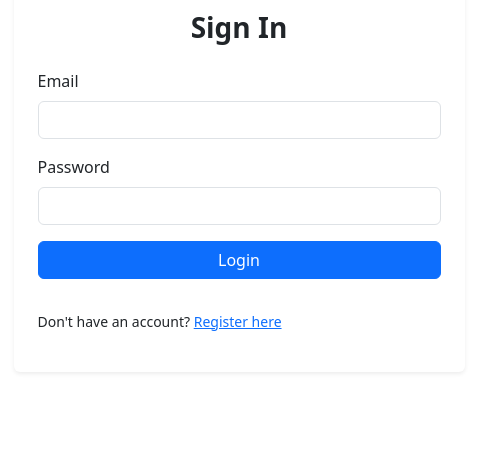
Scenario: LoginPage › handles login error (Invalid Credentials)
Step 1. Type "wrong@test.com" into the field with test id "email-input" → (239, 120), box 38,101 -> 440,139
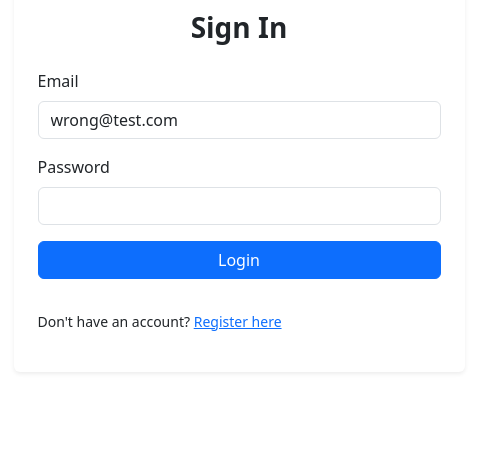
Step 2. Type "wrongpass" into the password field with test id "password-input" → (239, 206), box 38,187 -> 440,225
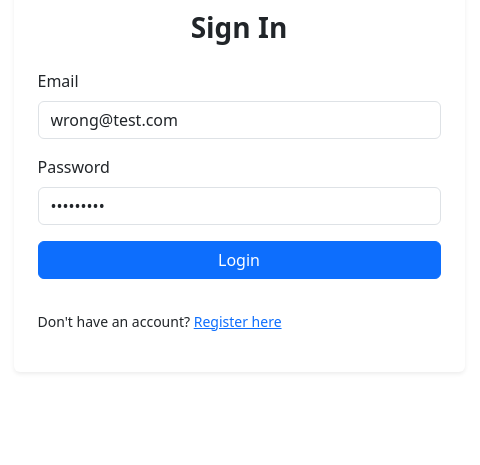
Step 3. Click the button with test id "login-button" → (239, 260), box 38,241 -> 440,279
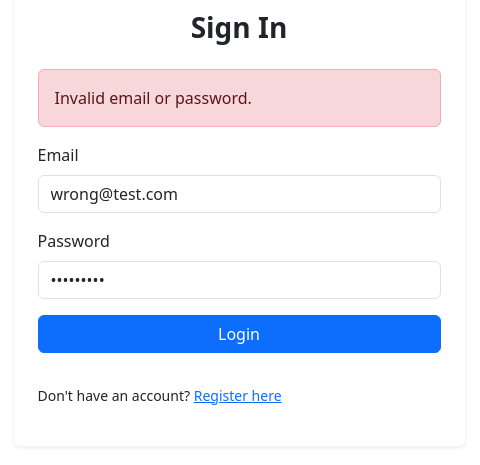
Expected: the text with test id "login-error" shows "Invalid email or password", 54,87 -> 252,109
